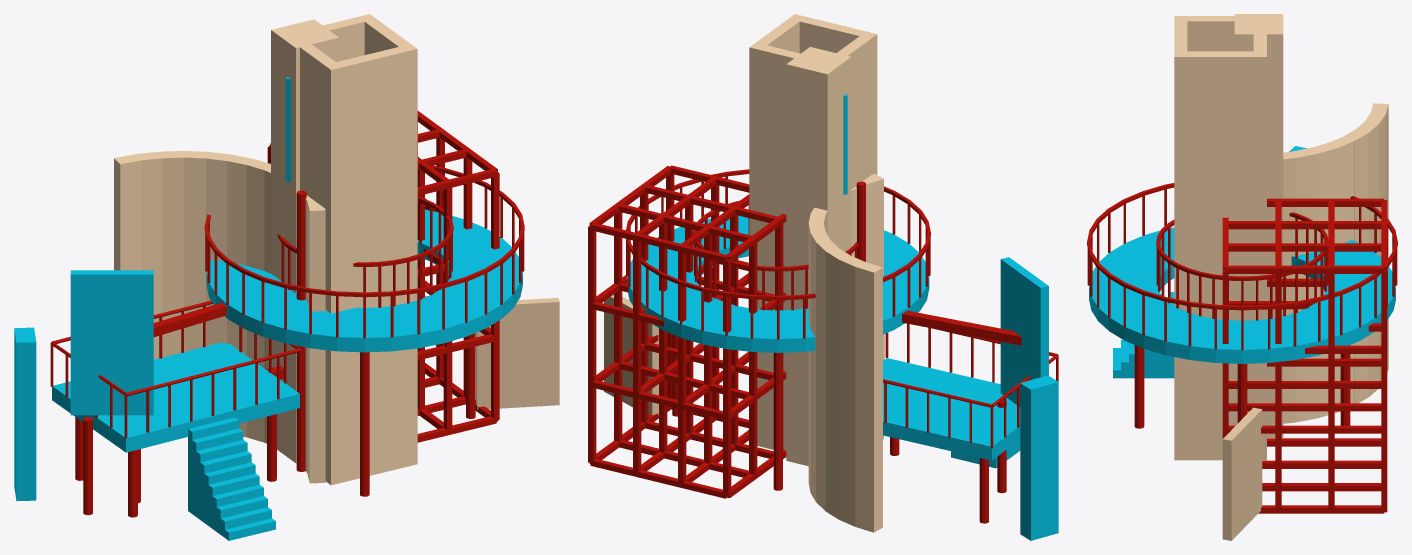
File: folie_tag_131.glb
3 views of the same model, side by side, from view 1: azimuth 30°, elevation 25°; view 2: azimuth 150°, elevation 25°; view 3: azimuth 270°, elevation 25° (orthographic). The views are drawn at different scales.
Parts seen in each view (by area): view 1: folie_tag_131_03_tower, folie_tag_131_02_curve, folie_tag_131_line, folie_tag_131_01_ring, folie_tag_131_05_panel, folie_tag_131_04_plate, folie_tag_131_00_cage, folie_tag_131_core, folie_tag_131_stairs, folie_tag_131_08_panel, folie_tag_131_07_fin, folie_tag_131_06_panel; view 2: folie_tag_131_00_cage, folie_tag_131_02_curve, folie_tag_131_03_tower, folie_tag_131_core, folie_tag_131_line, folie_tag_131_01_ring, folie_tag_131_04_plate, folie_tag_131_07_fin, folie_tag_131_05_panel, folie_tag_131_08_panel; view 3: folie_tag_131_03_tower, folie_tag_131_00_cage, folie_tag_131_01_ring, folie_tag_131_02_curve, folie_tag_131_line, folie_tag_131_core, folie_tag_131_08_panel, folie_tag_131_stairs.
Boxes of the visible parts, x1,y1,x2,y2 form: folie_tag_131_03_tower: (284, 14, 417, 485); folie_tag_131_02_curve: (114, 151, 325, 483); folie_tag_131_line: (50, 165, 524, 517); folie_tag_131_01_ring: (206, 209, 522, 352); folie_tag_131_05_panel: (70, 270, 153, 415); folie_tag_131_04_plate: (52, 342, 299, 452); folie_tag_131_00_cage: (267, 111, 499, 442); folie_tag_131_core: (271, 19, 339, 463); folie_tag_131_stairs: (188, 417, 275, 540); folie_tag_131_08_panel: (476, 298, 559, 409); folie_tag_131_07_fin: (14, 327, 36, 501); folie_tag_131_06_panel: (285, 77, 291, 182); folie_tag_131_00_cage: (588, 165, 786, 498); folie_tag_131_02_curve: (808, 174, 883, 532); folie_tag_131_03_tower: (749, 14, 877, 449); folie_tag_131_core: (786, 47, 851, 466); folie_tag_131_line: (626, 169, 1058, 523); folie_tag_131_01_ring: (627, 215, 929, 352); folie_tag_131_04_plate: (883, 358, 1020, 460); folie_tag_131_07_fin: (1020, 375, 1058, 540); folie_tag_131_05_panel: (1000, 257, 1048, 406); folie_tag_131_08_panel: (604, 294, 658, 415); folie_tag_131_03_tower: (1174, 16, 1266, 460); folie_tag_131_00_cage: (1222, 198, 1387, 513); folie_tag_131_01_ring: (1089, 227, 1395, 363); folie_tag_131_02_curve: (1283, 103, 1388, 423); folie_tag_131_line: (1087, 183, 1397, 428); folie_tag_131_core: (1234, 14, 1283, 437); folie_tag_131_08_panel: (1222, 407, 1262, 540); folie_tag_131_stairs: (1113, 292, 1174, 378).
Bounding box in the file's own units: 12.96 × 10.17 × 7.05.
